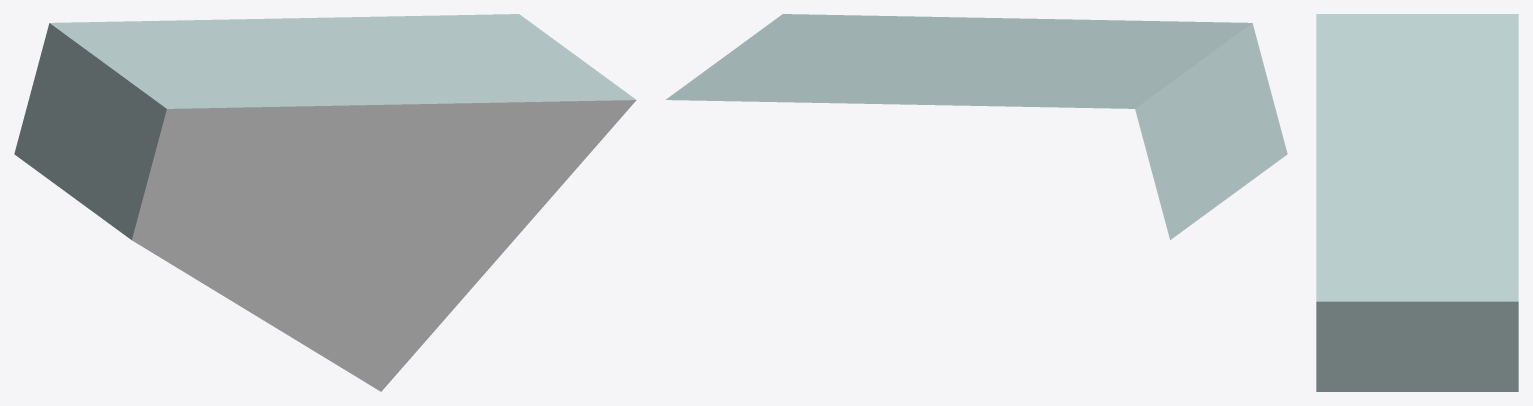
3 renders of one model, left to right at view 1: azimuth 30°, elevation 25°; view 2: azimuth 150°, elevation 25°; view 3: azimuth 270°, elevation 25°, orthographic. The views are drawn at different scales.
Parts seen in each view (by area): view 1: 0_2_1_2_0_2_0; view 2: 0_2_1_2_0_2_0; view 3: 0_2_1_2_0_2_0.
Boxes of the visible parts, box(x1,y1,x2,y2) form: 0_2_1_2_0_2_0: box(14, 14, 636, 391); 0_2_1_2_0_2_0: box(666, 14, 1287, 239); 0_2_1_2_0_2_0: box(1316, 14, 1518, 391).
Bounding box in the file's own units: 7.44 × 4.72 × 3.
